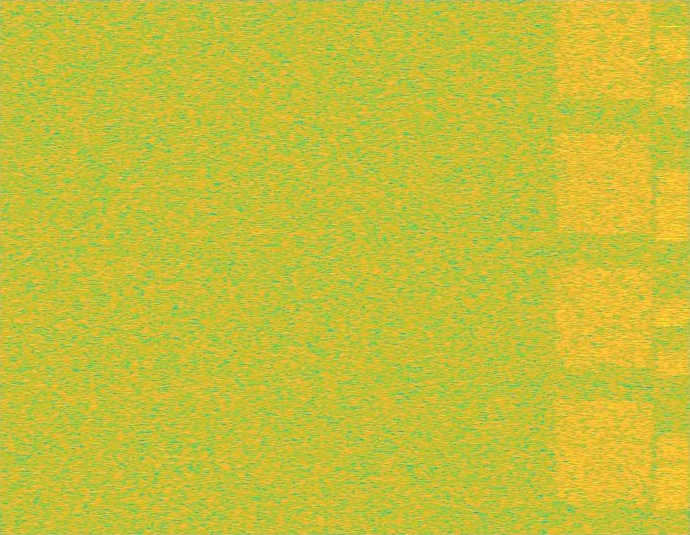5G: (552, 0, 656, 534)
LTE: (656, 0, 689, 534)
Radar: (663, 0, 677, 534)
